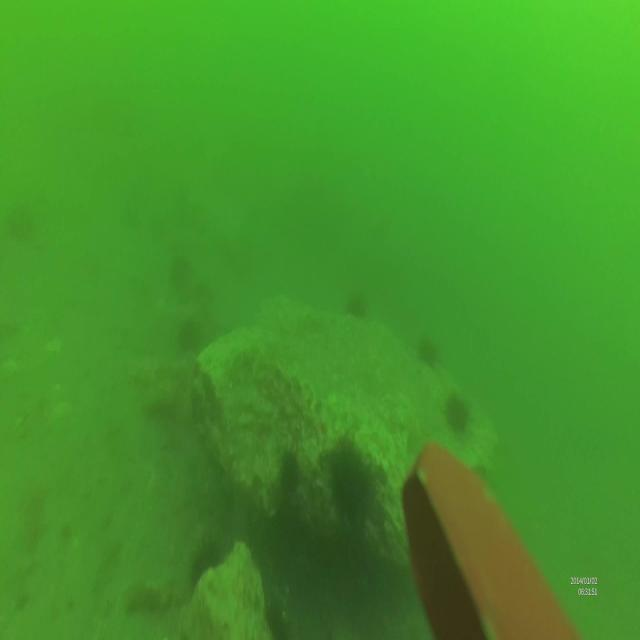echinus: (324, 436, 384, 532), (442, 382, 476, 434), (190, 541, 226, 586), (278, 452, 304, 492), (414, 333, 436, 372), (343, 293, 372, 322)
